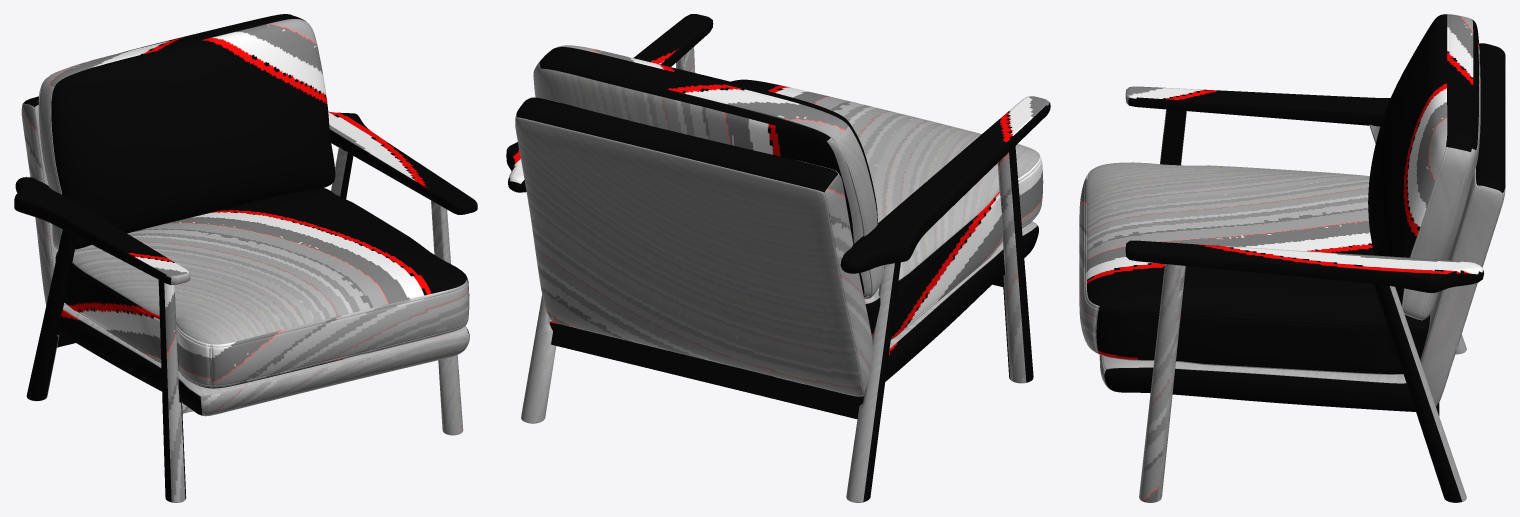
3 renders of one model, left to right at view 1: azimuth 30°, elevation 25°; view 2: azimuth 150°, elevation 25°; view 3: azimuth 270°, elevation 25°, orthographic. The views are drawn at different scales.
Parts seen in each view (by area): view 1: FABRIC; view 2: FABRIC; view 3: FABRIC.
Part boxes in pixels (x1=…): FABRIC: x1=14, y1=14, x2=477, y2=502; FABRIC: x1=506, y1=14, x2=1050, y2=502; FABRIC: x1=1079, y1=14, x2=1505, y2=502.
Bounding box in the file's own units: 0.8027 × 0.7236 × 0.7881.
2 materials, 2 textured.
